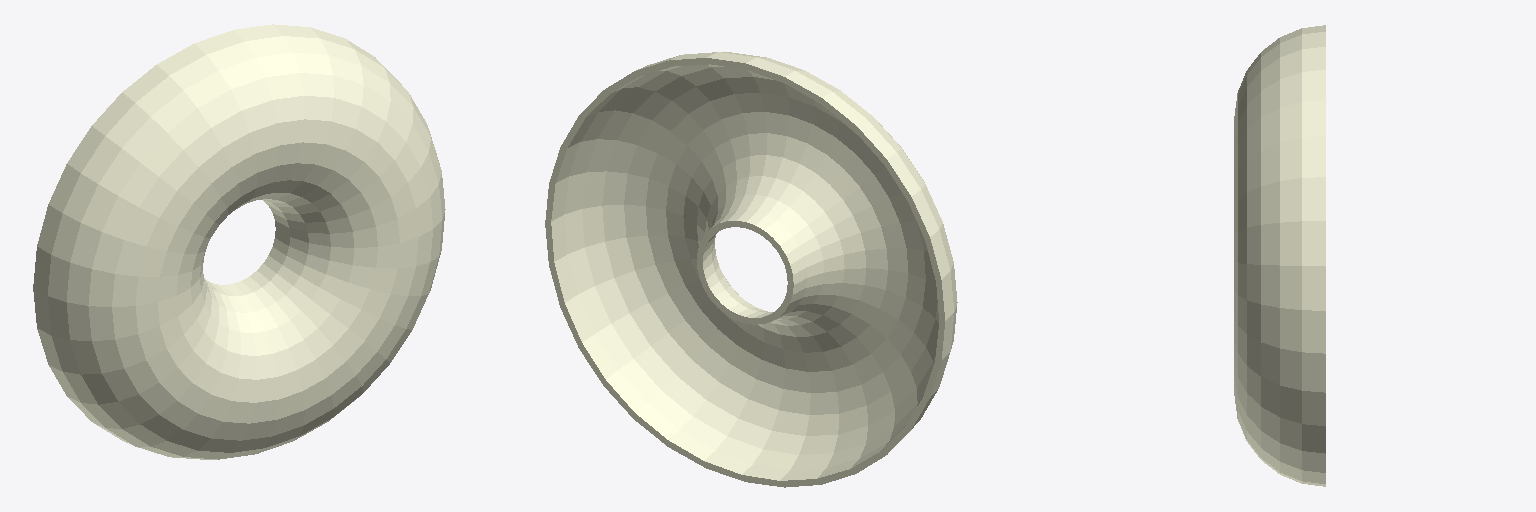
Rendered from section_031.obj.
3 views of the same model, side by side, from view 1: azimuth 30°, elevation 25°; view 2: azimuth 150°, elevation 25°; view 3: azimuth 270°, elevation 25° (orthographic).
Size of the model in its own units: 66 by 66 by 13.